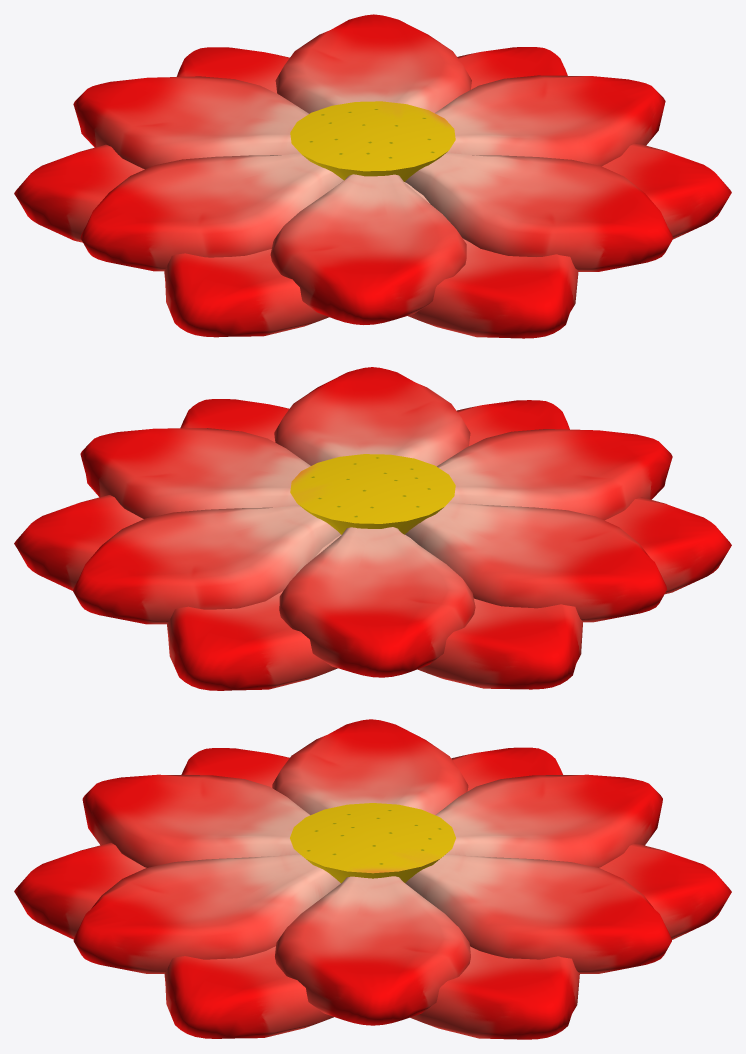
Rendered from hoa7.fbx.
3 views of the same model, one above another, from view 1: azimuth 30°, elevation 25°; view 2: azimuth 150°, elevation 25°; view 3: azimuth 270°, elevation 25° (orthographic).
Visible parts, largest first — view 1: polySurface85, polySurface86, polySurface44, polySurface45, polySurface51, polySurface49, polySurface55, polySurface48, polySurface47, polySurface54, polySurface56, polySurface53 (+1 smaller); view 2: polySurface49, polySurface45, polySurface44, polySurface51, polySurface86, polySurface85, polySurface53, polySurface54, polySurface47, polySurface48, polySurface52, polySurface55 (+1 smaller); view 3: polySurface85, polySurface49, polySurface51, polySurface86, polySurface45, polySurface44, polySurface56, polySurface52, polySurface47, polySurface53, polySurface55, polySurface54 (+1 smaller).
Part boxes in pixels (x1,y1,x2,y2): polySurface85: (405,152,672,271); polySurface86: (270,174,466,324); polySurface44: (80,153,343,271); polySurface45: (73,76,308,169); polySurface51: (435,75,665,166); polySurface49: (275,14,471,113); polySurface55: (404,182,578,338); polySurface48: (164,249,329,337); polySurface47: (290,101,455,181); polySurface54: (14,144,144,242); polySurface56: (602,143,731,239); polySurface53: (176,47,289,93); polySurface49: (73,505,340,624); polySurface45: (279,527,475,677); polySurface44: (405,503,666,622); polySurface51: (80,428,310,518); polySurface86: (437,429,672,520); polySurface85: (274,367,470,466); polySurface53: (167,535,341,690); polySurface54: (404,534,582,689); polySurface47: (290,454,455,534); polySurface48: (605,497,731,594); polySurface52: (14,495,143,590); polySurface55: (457,400,569,445); polySurface85: (73,854,340,973); polySurface49: (405,854,671,973); polySurface51: (275,876,470,1025); polySurface86: (82,774,310,867); polySurface45: (435,774,662,867); polySurface44: (272,719,468,815); polySurface56: (164,946,333,1038); polySurface52: (410,946,579,1039); polySurface47: (290,803,455,883); polySurface53: (599,843,731,939); polySurface55: (14,842,146,939); polySurface54: (451,747,562,791).
Size of the model in its own units: 81.97 by 12.53 by 87.5.
1 material, 1 textured.
